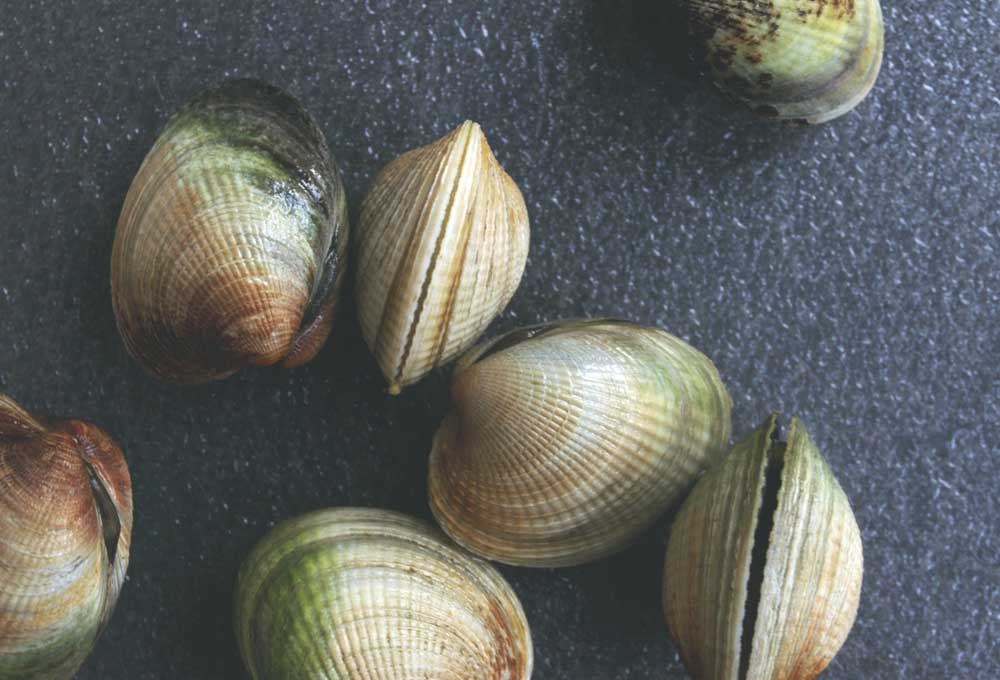cockle: (107, 76, 351, 410), (421, 321, 730, 577), (661, 408, 878, 680), (224, 503, 543, 680), (349, 115, 534, 397), (3, 389, 133, 680), (689, 1, 884, 127)
